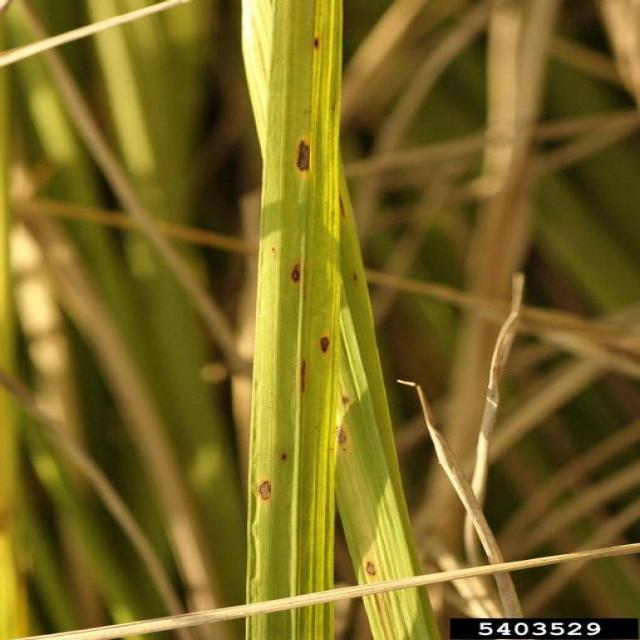Brown spot: (358, 541, 387, 581), (252, 475, 287, 507), (292, 127, 314, 172), (298, 357, 314, 409), (280, 258, 306, 286), (328, 416, 344, 454), (305, 29, 323, 56), (273, 446, 287, 465), (316, 327, 326, 353)
